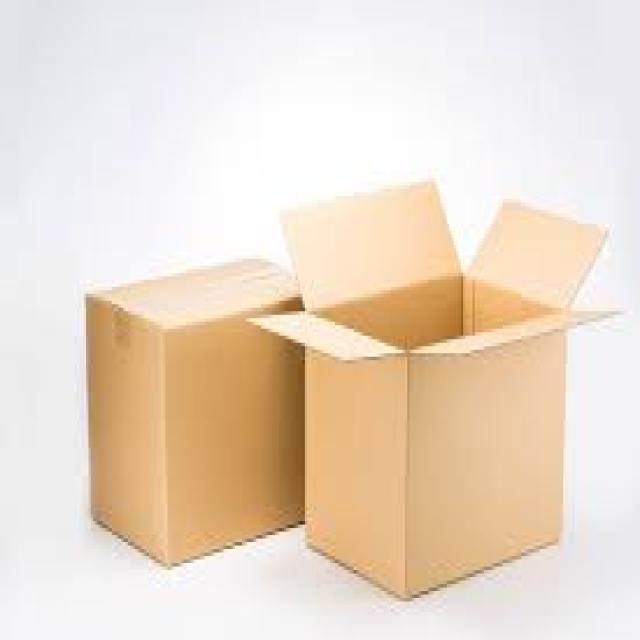Kardus kondisi bagus: (249, 179, 621, 598), (86, 251, 330, 571)
